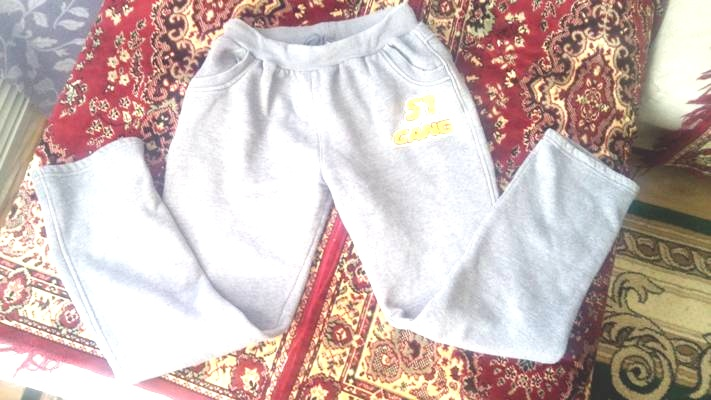Pants: (40, 20, 644, 388)
